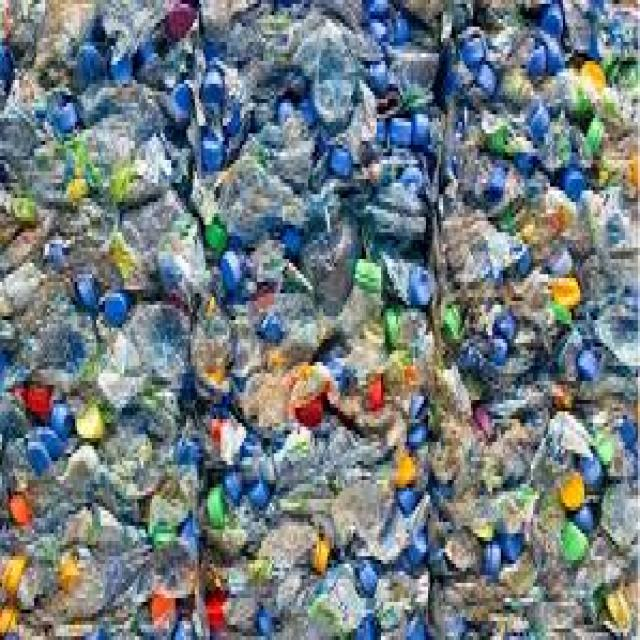plastic_bottle: (279, 446, 388, 640), (183, 44, 243, 142), (382, 100, 461, 174)
